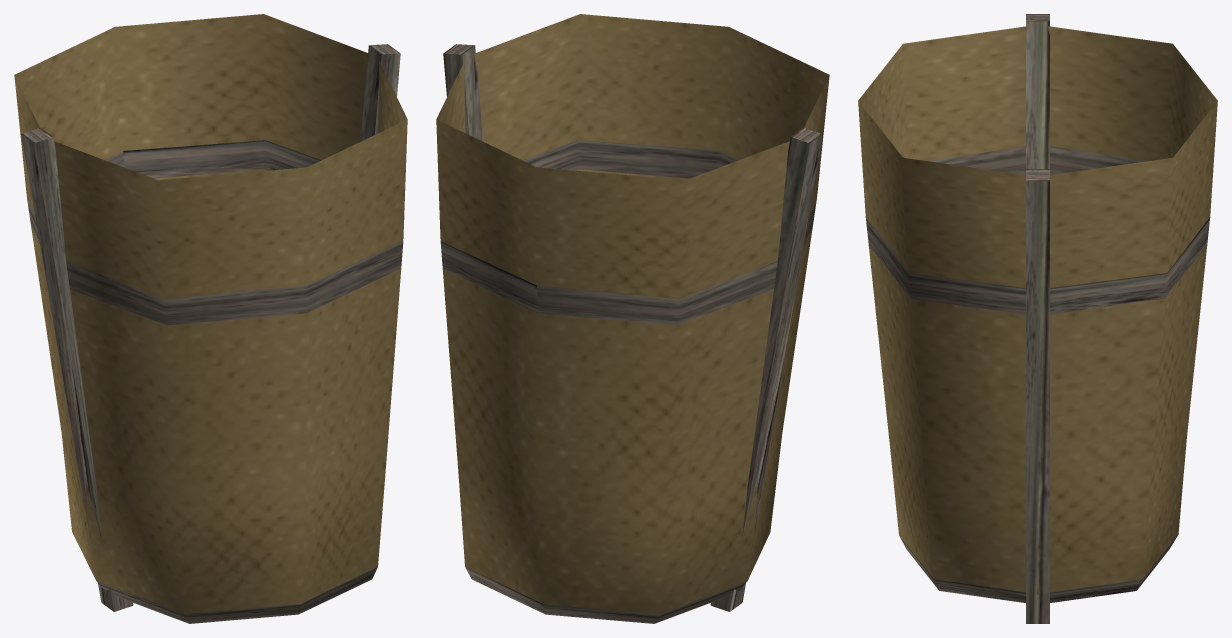
The model's file is crab_pot.fbx.
The picture shows the model from 3 angles, left to right: view 1: azimuth 30°, elevation 25°; view 2: azimuth 150°, elevation 25°; view 3: azimuth 270°, elevation 25°; orthographic projection. The views are drawn at different scales.
Visible parts, largest first — view 1: lod_high, post, post2; view 2: lod_high, post, post2; view 3: lod_high, post2, post.
Boxes of the visible parts, x1=… form: lod_high: x1=14, y1=14, x2=407, y2=623; post: x1=21, y1=127, x2=133, y2=611; post2: x1=360, y1=44, x2=400, y2=141; lod_high: x1=436, y1=14, x2=829, y2=623; post: x1=710, y1=127, x2=822, y2=611; post2: x1=443, y1=44, x2=483, y2=141; lod_high: x1=858, y1=26, x2=1217, y2=602; post2: x1=1026, y1=169, x2=1049, y2=623; post: x1=1026, y1=14, x2=1049, y2=169.
Size of the model in its own units: 119 by 155 by 108.
Materials: 2 (2 with a texture image).
